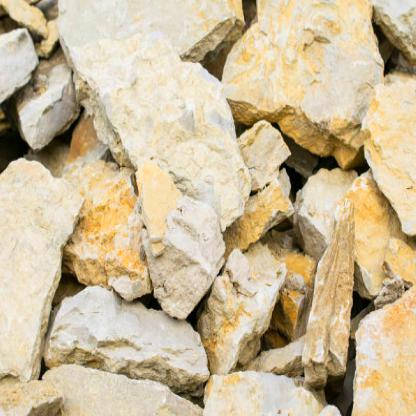Sedimentary_Limestone: (91, 27, 250, 317), (197, 6, 386, 156), (0, 149, 84, 400)
